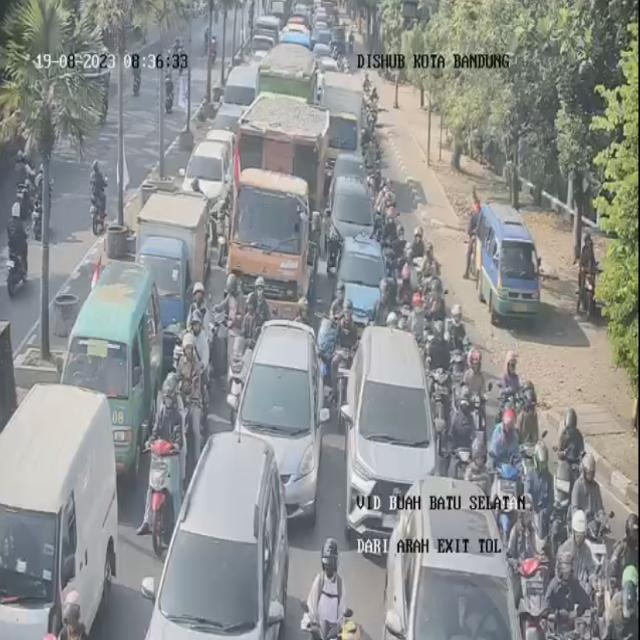cars: (148, 437, 294, 640), (388, 475, 526, 640), (340, 323, 434, 549), (57, 263, 156, 462), (235, 321, 328, 519), (478, 201, 544, 327), (338, 228, 390, 329), (328, 161, 374, 263), (189, 132, 232, 220)
motorcycle: (142, 380, 196, 542), (538, 516, 588, 640), (509, 494, 549, 640), (488, 394, 527, 532), (305, 536, 355, 639), (572, 452, 610, 582), (553, 403, 587, 536), (519, 384, 545, 528), (174, 331, 206, 445), (446, 383, 478, 484), (185, 274, 214, 382), (458, 348, 488, 438), (415, 230, 439, 316), (502, 347, 525, 430), (432, 277, 454, 358), (398, 256, 417, 326), (375, 183, 394, 243), (406, 224, 425, 274), (367, 143, 385, 194), (364, 132, 380, 186), (374, 171, 392, 207)
truck: (0, 377, 120, 635), (136, 189, 213, 361), (229, 165, 312, 318), (323, 73, 368, 174)
